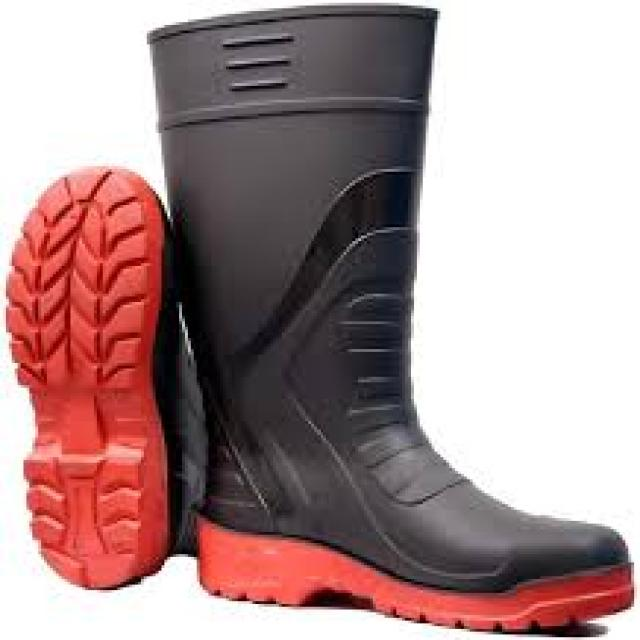shoes: (8, 6, 628, 629)
